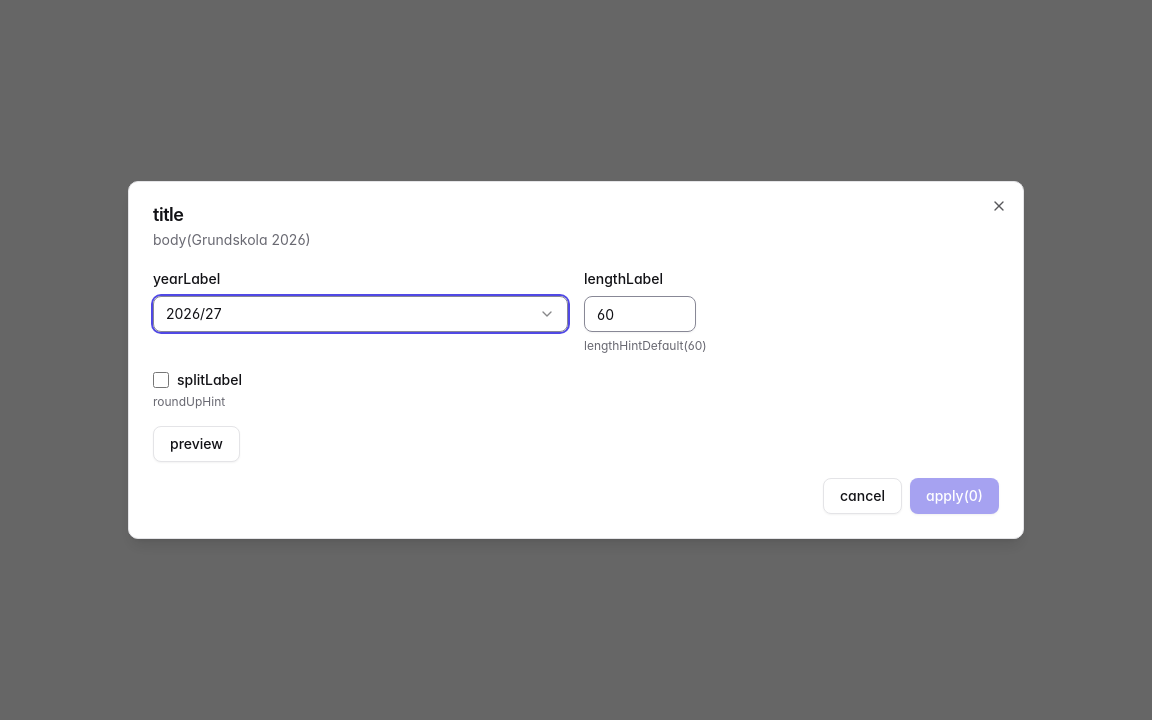
Test case: GenerateDialog › creates nothing before a preview, and previews with dryRun true
Expected: the button "apply(0)" is disabled, 910,478 -> 999,514
Whole lessons, rounded up: today's rule and today's body, no remainder.
Click the button "preview" at [196, 444], box 153,426 -> 240,462
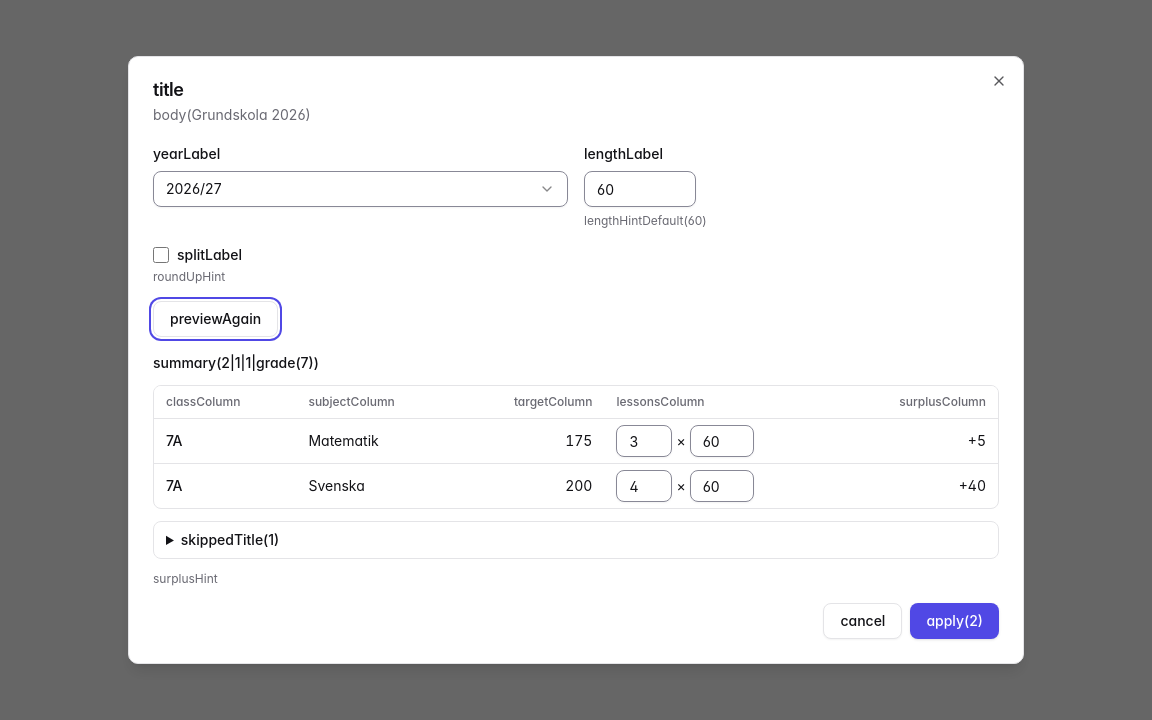
Expected: the text "summary(2|1|1|grade(7))" is shown, 153,354 -> 319,371
Expected: the text "+5" is shown, 838,419 -> 998,464
Expected: the button "apply(2)" is enabled, 910,603 -> 999,639
